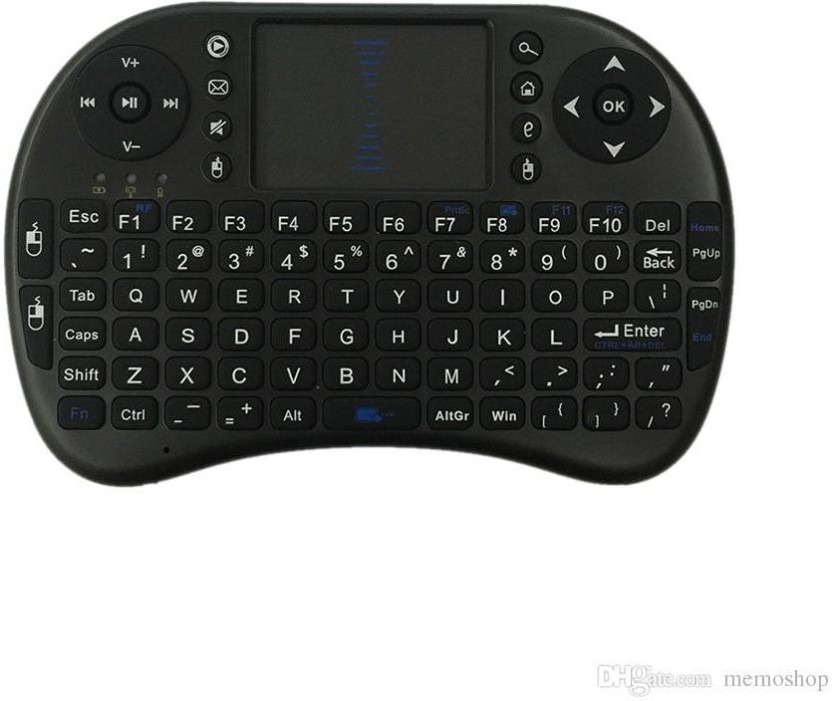keyboard: (61, 190, 732, 447)
